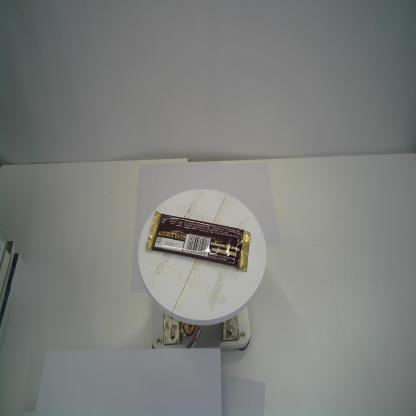Chocolate: (145, 209, 252, 274)
